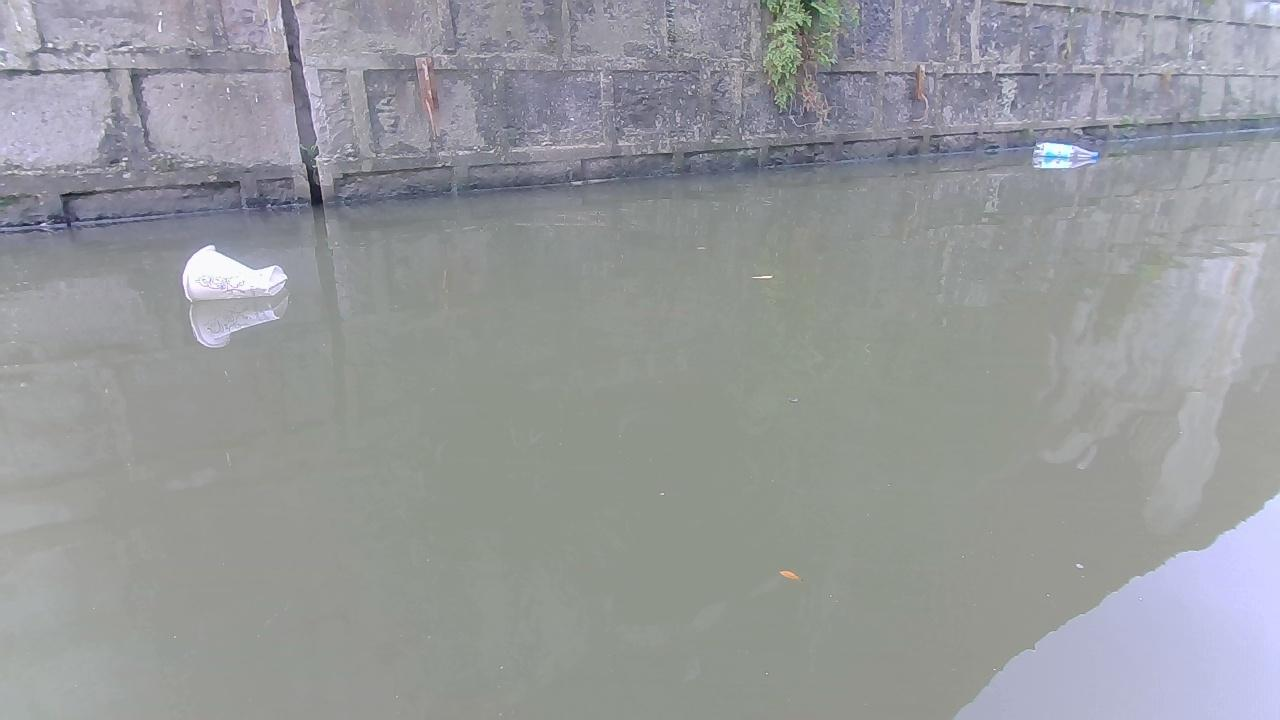bottle: (171, 242, 291, 293), (1033, 140, 1103, 162)
